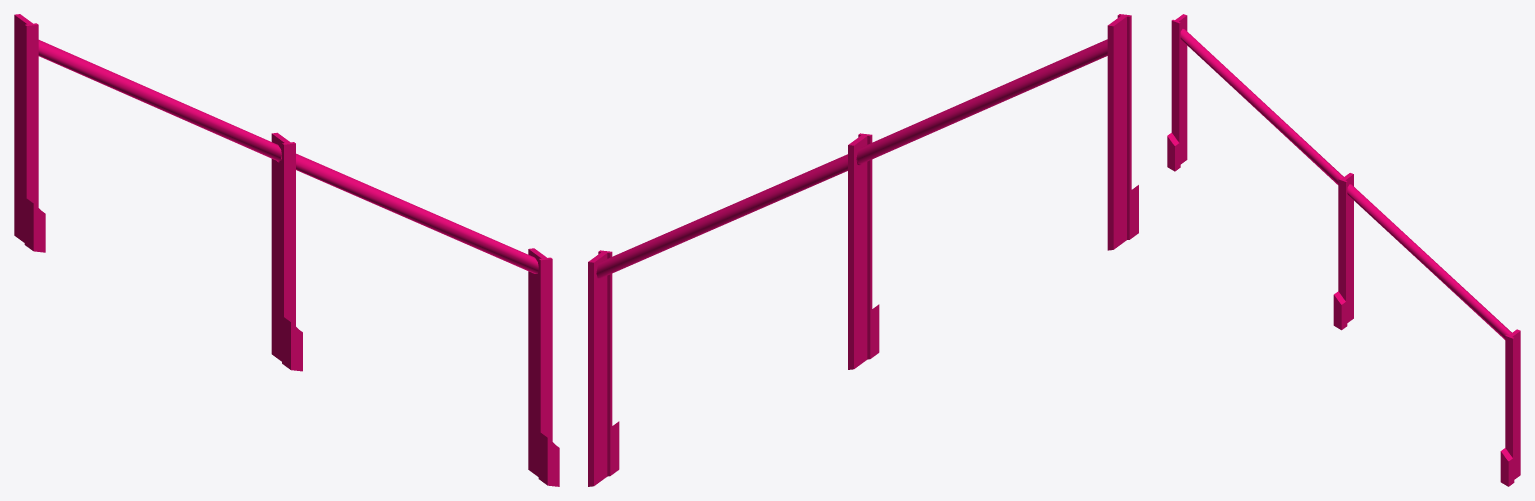
The model's file is Metal_Stairs_05B_Rail.fbx.
3 views of the same model, side by side, from view 1: azimuth 30°, elevation 25°; view 2: azimuth 150°, elevation 25°; view 3: azimuth 330°, elevation 25° (orthographic). The views are drawn at different scales.
Parts seen in each view (by area): view 1: Metal_Stairs_05B_Rail; view 2: Metal_Stairs_05B_Rail; view 3: Metal_Stairs_05B_Rail.
Part boxes in pixels (bbox=[...]): Metal_Stairs_05B_Rail: bbox=[14, 14, 559, 486]; Metal_Stairs_05B_Rail: bbox=[588, 14, 1138, 486]; Metal_Stairs_05B_Rail: bbox=[1167, 14, 1520, 486].
Size of the model in its own units: 227 by 241 by 16.95.
